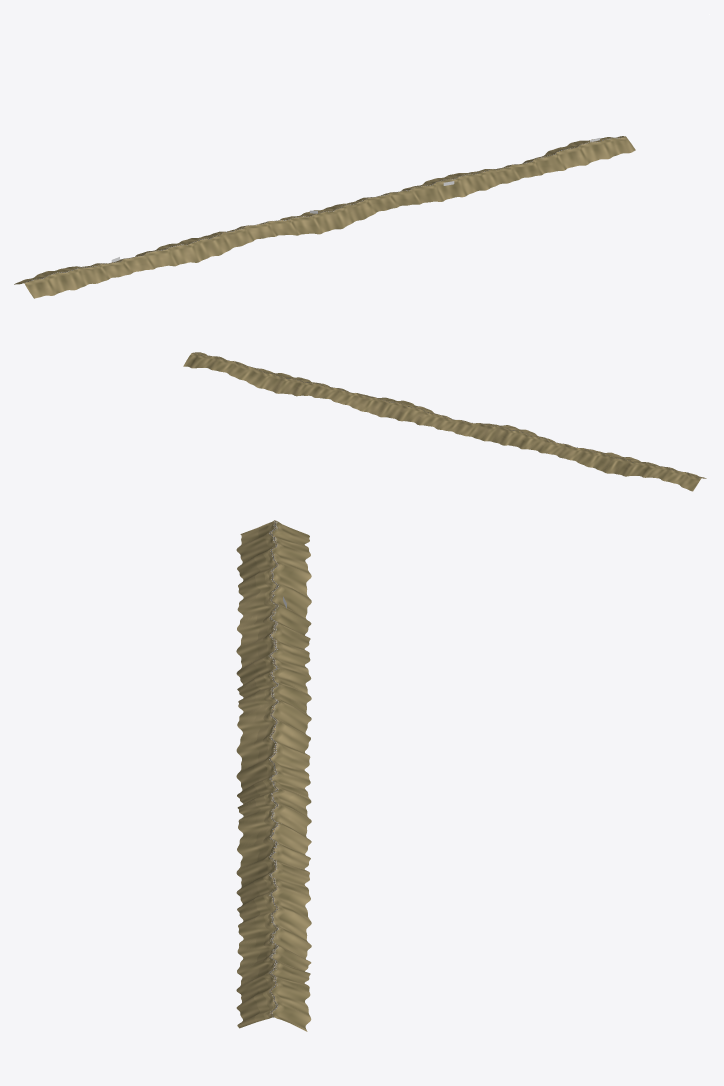
The model's file is mulholland.glb.
3 renders of one model, top to bottom at view 1: azimuth 30°, elevation 25°; view 2: azimuth 150°, elevation 25°; view 3: azimuth 270°, elevation 25°, orthographic. The views are drawn at different scales.
Visible parts, largest first — view 1: Land_009, Land_012, Land_004, Land_001, Land_016, Land_000, Land_005, Land_017, Land_013, Land_015, Land_008, Land_006 (+6 smaller); view 2: Land_003, Land_006, Land_011, Land_014, Land_015, Land_010, Land_016, Land_002, Land_007, Land_000, Land_009, Land_008 (+6 smaller); view 3: Land_007, Land_017, Land_014, Land_002, Land_011, Land_001, Land_008, Land_004, Land_013, Land_012, Land_006, Land_010 (+6 smaller).
Boxes of the visible parts, x1,y1,x2,y2 form: Land_009: (313,203,368,229); Land_012: (413,177,471,201); Land_004: (149,243,204,266); Land_001: (47,266,102,290); Land_016: (543,141,597,167); Land_000: (14,271,65,298); Land_005: (179,233,233,259); Land_017: (577,137,635,159); Land_013: (445,170,499,193); Land_015: (522,153,570,176); Land_008: (280,211,331,234); Land_006: (210,225,266,247); Land_003: (579,450,621,473); Land_006: (496,426,537,449); Land_011: (355,395,395,417); Land_014: (270,374,310,396); Land_015: (247,367,286,390); Land_010: (389,400,425,421); Land_016: (215,359,252,381); Land_002: (614,456,649,476); Land_007: (473,423,512,442); Land_000: (664,470,706,491); Land_009: (412,408,451,429); Land_008: (440,418,477,436); Land_007: (236,710,310,760); Land_017: (236,984,311,1028); Land_014: (238,907,311,952); Land_002: (237,574,311,616); Land_011: (237,822,311,863); Land_001: (237,545,311,588); Land_008: (236,741,310,788); Land_004: (236,630,310,679); Land_013: (237,877,310,919); Land_012: (236,851,309,898); Land_006: (238,684,311,726); Land_010: (238,796,311,835).
Size of the model in its own units: 20642 by 1408 by 3534.
